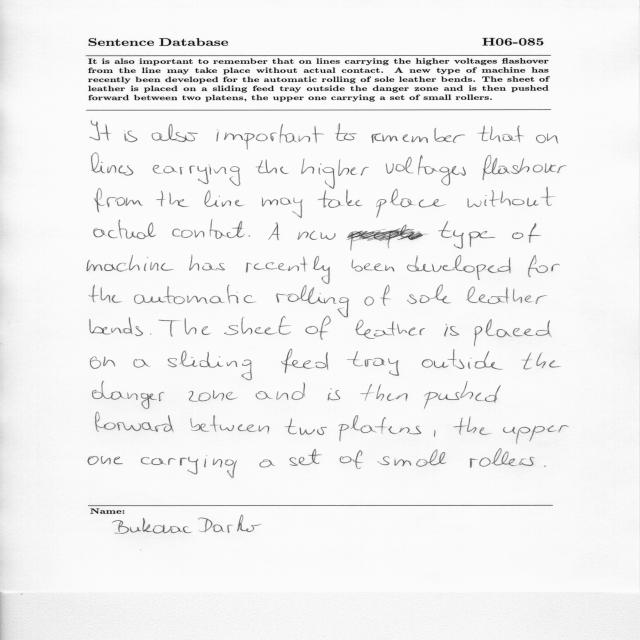word: (347, 221, 495, 250), (217, 124, 325, 149), (407, 255, 511, 280), (168, 351, 252, 380), (386, 155, 466, 185), (246, 256, 330, 284), (276, 285, 349, 317), (134, 285, 256, 304), (339, 415, 421, 442), (141, 455, 237, 478), (424, 381, 501, 409), (301, 158, 369, 189), (483, 155, 567, 180), (474, 319, 551, 346), (376, 189, 446, 218), (93, 381, 165, 409), (153, 165, 241, 186), (467, 187, 555, 207), (422, 349, 503, 370), (96, 412, 174, 433), (191, 415, 270, 434), (87, 255, 174, 272), (172, 219, 245, 239), (466, 286, 547, 304), (371, 128, 465, 143), (355, 319, 425, 339), (347, 351, 399, 376), (224, 316, 291, 335), (503, 425, 569, 444), (378, 449, 447, 467), (470, 449, 535, 468), (94, 220, 156, 239), (95, 188, 143, 212), (281, 349, 328, 373), (90, 317, 143, 336), (158, 318, 211, 337), (92, 153, 134, 176), (256, 382, 306, 400), (318, 189, 363, 208), (407, 285, 451, 304), (152, 124, 198, 142), (262, 198, 303, 218), (360, 384, 408, 401), (477, 126, 524, 143), (453, 416, 492, 435), (285, 418, 327, 435), (528, 255, 560, 277), (204, 190, 245, 207), (521, 353, 561, 370), (305, 316, 331, 340), (188, 390, 238, 402), (89, 285, 122, 303), (512, 223, 541, 243), (189, 255, 225, 271), (289, 449, 322, 466), (352, 259, 395, 272), (365, 285, 391, 306), (156, 191, 189, 207), (255, 159, 289, 174), (340, 450, 363, 469), (90, 121, 111, 141), (336, 123, 358, 141), (297, 231, 336, 240), (91, 356, 116, 369), (88, 456, 123, 465), (536, 133, 558, 144), (268, 223, 280, 241), (444, 324, 459, 337), (124, 130, 138, 142), (328, 388, 340, 401), (134, 359, 151, 368), (260, 460, 275, 468), (434, 430, 436, 437), (249, 236, 251, 237), (150, 334, 152, 335), (544, 466, 546, 467)
